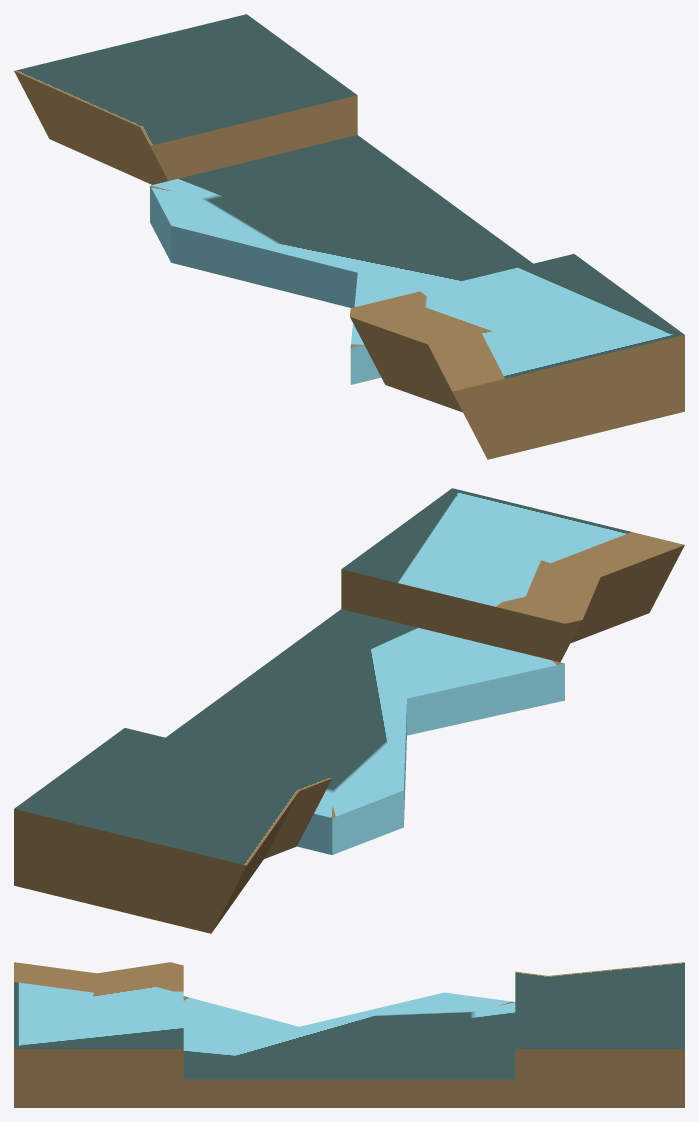
File: Brown_Waterfall_Top_01.obj
The picture shows the model from 3 angles, top to bottom: view 1: azimuth 30°, elevation 25°; view 2: azimuth 150°, elevation 25°; view 3: azimuth 270°, elevation 25°; orthographic projection. The views are drawn at different scales.
Visible parts, largest first — view 1: Mesh1 Brown_Waterfall_Top Model; view 2: Mesh1 Brown_Waterfall_Top Model; view 3: Mesh1 Brown_Waterfall_Top Model.
Boxes of the visible parts, left/top/right/bottom form: Mesh1 Brown_Waterfall_Top Model: left=14, top=14, right=684, bottom=459; Mesh1 Brown_Waterfall_Top Model: left=14, top=488, right=684, bottom=933; Mesh1 Brown_Waterfall_Top Model: left=14, top=962, right=684, bottom=1107.
Bounding box in the file's own units: 0.92 × 0.29 × 3.
1 material, 1 textured.
